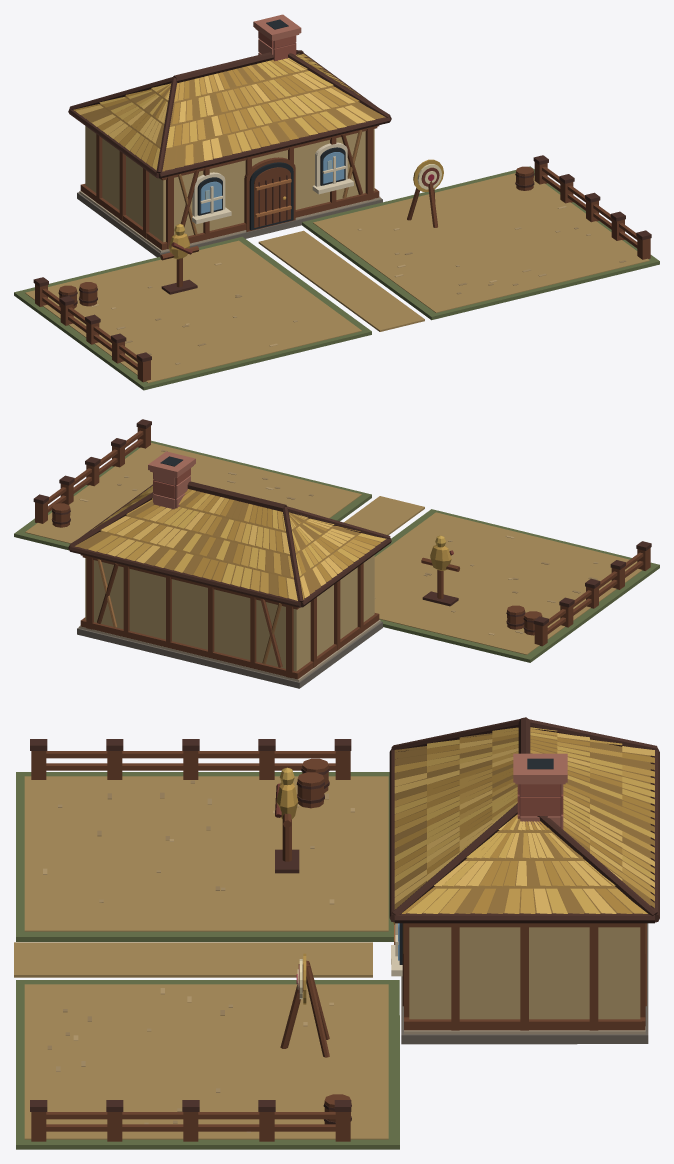
The model's file is barracks-nivel-1.glb.
3 views of the same model, one above another, from view 1: azimuth 30°, elevation 25°; view 2: azimuth 150°, elevation 25°; view 3: azimuth 270°, elevation 25° (orthographic). The views are drawn at different scales.
Visible parts, largest first — view 1: Quartel da guarda #ad8f5a, Quartel da guarda #70432c, Quartel da guarda #bda371, Quartel da guarda #68744a, Quartel da guarda #4c3028, Quartel da guarda #92703a, Quartel da guarda #bc9549, Quartel da guarda #ab843d, Quartel da guarda #c8a452, Quartel da guarda #d4ae5e, Quartel da guarda #e6d7ba, Quartel da guarda #746c62 (+5 smaller); view 2: Quartel da guarda #ad8f5a, Quartel da guarda #bda371, Quartel da guarda #70432c, Quartel da guarda #92703a, Quartel da guarda #4c3028, Quartel da guarda #68744a, Quartel da guarda #bc9549, Quartel da guarda #ab843d, Quartel da guarda #c8a452, Quartel da guarda #d4ae5e, Quartel da guarda #746c62, Quartel da guarda #ac6f5e (+3 smaller); view 3: Quartel da guarda #ad8f5a, Quartel da guarda #70432c, Quartel da guarda #bda371, Quartel da guarda #68744a, Quartel da guarda #92703a, Quartel da guarda #4c3028, Quartel da guarda #bc9549, Quartel da guarda #c8a452, Quartel da guarda #ab843d, Quartel da guarda #d4ae5e, Quartel da guarda #746c62, Quartel da guarda #ac6f5e (+2 smaller).
Boxes of the visible parts, left/top/right/bottom form: Quartel da guarda #ad8f5a: left=25, top=173, right=649, bottom=383; Quartel da guarda #70432c: left=35, top=125, right=650, bottom=382; Quartel da guarda #bda371: left=85, top=126, right=374, bottom=242; Quartel da guarda #68744a: left=14, top=166, right=659, bottom=390; Quartel da guarda #4c3028: left=33, top=50, right=651, bottom=362; Quartel da guarda #92703a: left=81, top=57, right=385, bottom=171; Quartel da guarda #bc9549: left=114, top=54, right=443, bottom=259; Quartel da guarda #ab843d: left=73, top=57, right=361, bottom=166; Quartel da guarda #c8a452: left=99, top=53, right=346, bottom=235; Quartel da guarda #d4ae5e: left=75, top=55, right=375, bottom=160; Quartel da guarda #e6d7ba: left=192, top=142, right=353, bottom=224; Quartel da guarda #746c62: left=77, top=192, right=382, bottom=257; Quartel da guarda #ad8f5a: left=25, top=443, right=642, bottom=654; Quartel da guarda #bda371: left=85, top=555, right=374, bottom=671; Quartel da guarda #70432c: left=35, top=426, right=650, bottom=679; Quartel da guarda #92703a: left=75, top=490, right=380, bottom=598; Quartel da guarda #4c3028: left=33, top=419, right=651, bottom=632; Quartel da guarda #68744a: left=14, top=440, right=659, bottom=662; Quartel da guarda #bc9549: left=88, top=490, right=451, bottom=593; Quartel da guarda #ab843d: left=120, top=489, right=380, bottom=599; Quartel da guarda #c8a452: left=92, top=486, right=445, bottom=588; Quartel da guarda #d4ae5e: left=100, top=488, right=354, bottom=600; Quartel da guarda #746c62: left=77, top=621, right=382, bottom=688; Quartel da guarda #ac6f5e: left=148, top=451, right=195, bottom=509; Quartel da guarda #ad8f5a: left=14, top=776, right=388, bottom=1139; Quartel da guarda #70432c: left=31, top=751, right=646, bottom=1141; Quartel da guarda #bda371: left=409, top=927, right=640, bottom=1019; Quartel da guarda #68744a: left=16, top=772, right=399, bottom=1149; Quartel da guarda #92703a: left=394, top=728, right=654, bottom=913; Quartel da guarda #4c3028: left=30, top=717, right=659, bottom=1124; Quartel da guarda #bc9549: left=276, top=727, right=654, bottom=1004; Quartel da guarda #c8a452: left=279, top=727, right=654, bottom=913; Quartel da guarda #ab843d: left=394, top=734, right=654, bottom=913; Quartel da guarda #d4ae5e: left=394, top=733, right=654, bottom=913; Quartel da guarda #746c62: left=401, top=923, right=648, bottom=1044; Quartel da guarda #ac6f5e: left=513, top=753, right=567, bottom=829.
Size of the model in its own units: 13.45 by 4.01 by 9.85.
